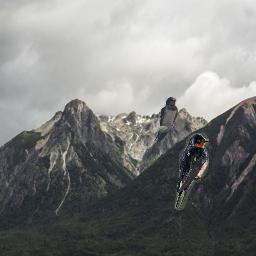Swallow: (173, 133, 209, 210), (154, 97, 178, 142)
